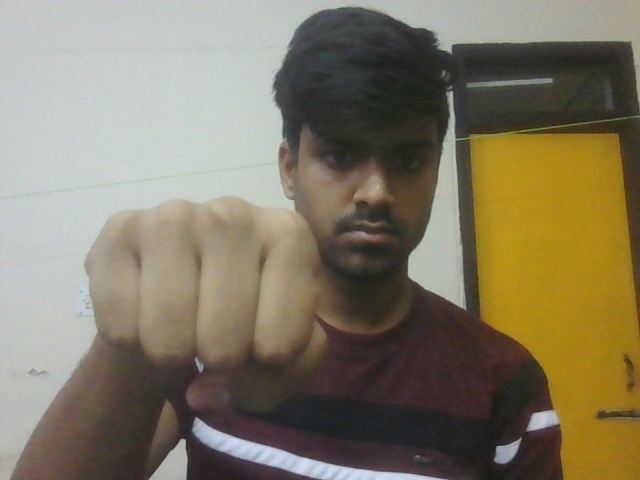yes: (74, 175, 352, 429)
